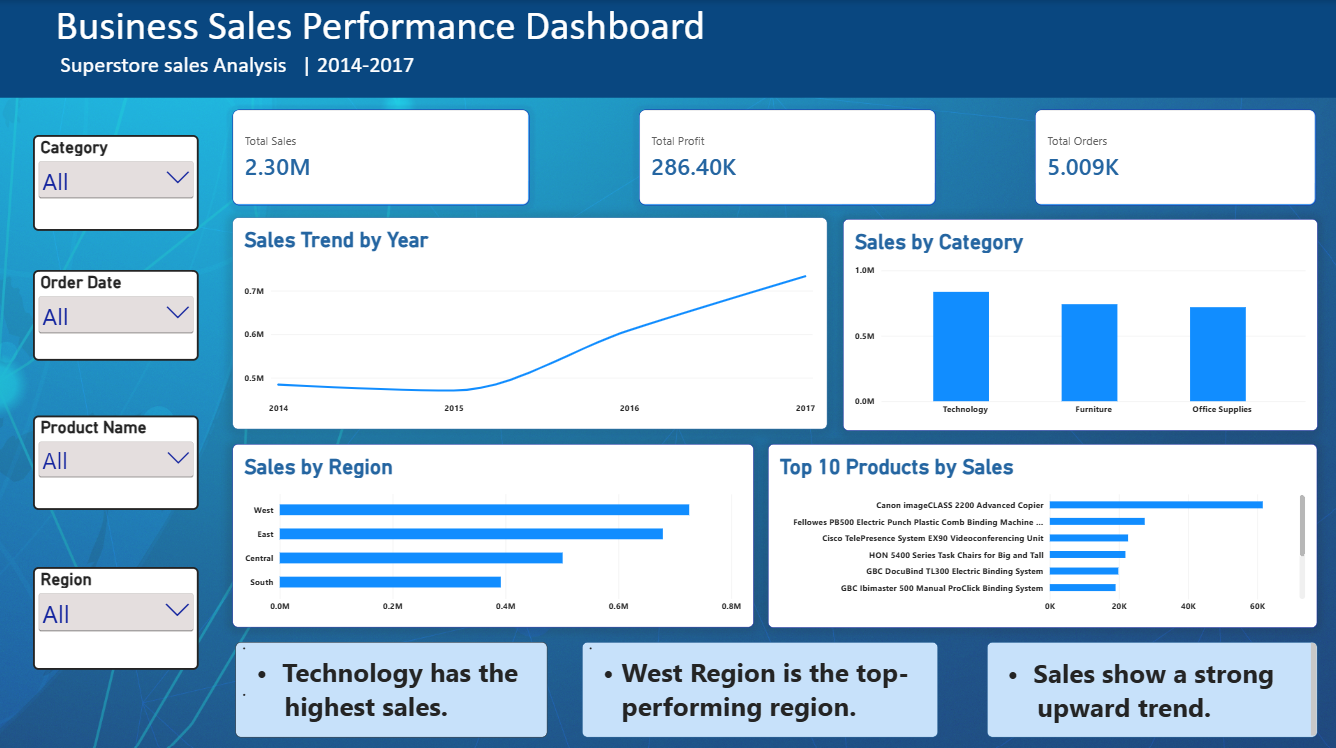

The page's visual inventory and layout, read from the dashboard file:
{"tool":"powerbi","page":{"name":"Page 1","canvas":[1920,1080],"ordinal":0},"visuals":[{"type":"cardVisual","fields":{"Data":["Sum(Sample - Superstore.Sales)"]},"box":[333.3,156.7,425,137.5],"z":0},{"type":"cardVisual","fields":{"Data":["Sum(Sample - Superstore.Profit)"]},"box":[915,157.5,425,137.5],"z":1000},{"type":"cardVisual","fields":{"Data":["Count(Sample - Superstore.Order ID)"]},"box":[1482.5,157.5,402.5,137.5],"z":2000},{"type":"lineChart","title":"Sales Trend by Year","fields":{"Category":["Sample - Superstore.Order Date.Variation.Date Hierarchy.Year","Sample - Superstore.Order Date.Variation.Date Hierarchy.Quarter","Sample - Superstore.Order Date.Variation.Date Hierarchy.Month"],"Y":["Sum(Sample - Superstore.Sales)"]},"box":[334,312.6,851.8,303],"z":3000},{"type":"clusteredColumnChart","title":"Sales by Category","fields":{"Category":["Sample - Superstore.Category"],"Y":["Sum(Sample - Superstore.Sales)"]},"box":[1206.7,313.3,680,303.3],"z":4000},{"type":"clusteredBarChart","title":"Sales by Region","fields":{"Category":["Sample - Superstore.Region"],"Y":["Sum(Sample - Superstore.Sales)"]},"box":[334,637,746.8,262.5],"z":5000},{"type":"clusteredBarChart","title":"Top 10 Products by Sales","fields":{"Category":["Sample - Superstore.Product Name"],"Y":["Sum(Sample - Superstore.Sales)"]},"box":[1100,636.7,786.7,263.3],"z":6000},{"type":"textbox","box":[0,0,1917.5,140],"z":7000},{"type":"textbox","box":[336.7,920,446.7,136.7],"z":11000},{"type":"slicer","fields":{"Values":["Sample - Superstore.Category"]},"box":[47.5,192.5,237.5,137.5],"z":11001},{"type":"slicer","fields":{"Values":["Sample - Superstore.Order Date"]},"box":[47.5,387.5,237.5,130],"z":11002},{"type":"slicer","fields":{"Values":["Sample - Superstore.Product Name"]},"box":[47.5,595,237.5,135],"z":11003},{"type":"slicer","fields":{"Values":["Sample - Superstore.Region"]},"box":[47.5,812.5,237.5,147.5],"z":11004},{"type":"textbox","box":[1413.3,920,473.3,136.7],"z":11006},{"type":"textbox","box":[833.3,920,510,136.7],"z":11007}]}

Visuals, with their boxes in screenshot pixels (x1, y1, x2, y2), scaled from the page's 1920x1080 canvas onto the 1336x748 screenshot:
cardVisual - Sum(Sample - Superstore.Sales): x1=232 y1=109 x2=528 y2=204
cardVisual - Sum(Sample - Superstore.Profit): x1=637 y1=109 x2=932 y2=204
cardVisual - Count(Sample - Superstore.Order ID): x1=1032 y1=109 x2=1312 y2=204
"Sales Trend by Year" lineChart: x1=232 y1=217 x2=825 y2=426
"Sales by Category" clusteredColumnChart: x1=840 y1=217 x2=1313 y2=427
"Sales by Region" clusteredBarChart: x1=232 y1=441 x2=752 y2=623
"Top 10 Products by Sales" clusteredBarChart: x1=765 y1=441 x2=1313 y2=623
textbox: x1=0 y1=0 x2=1334 y2=97
textbox: x1=234 y1=637 x2=545 y2=732
slicer - Sample - Superstore.Category: x1=33 y1=133 x2=198 y2=229
slicer - Sample - Superstore.Order Date: x1=33 y1=268 x2=198 y2=358
slicer - Sample - Superstore.Product Name: x1=33 y1=412 x2=198 y2=506
slicer - Sample - Superstore.Region: x1=33 y1=563 x2=198 y2=665
textbox: x1=983 y1=637 x2=1313 y2=732
textbox: x1=580 y1=637 x2=935 y2=732
